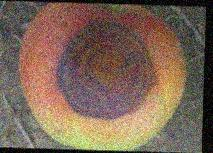rotten apple: (16, 4, 191, 150)
